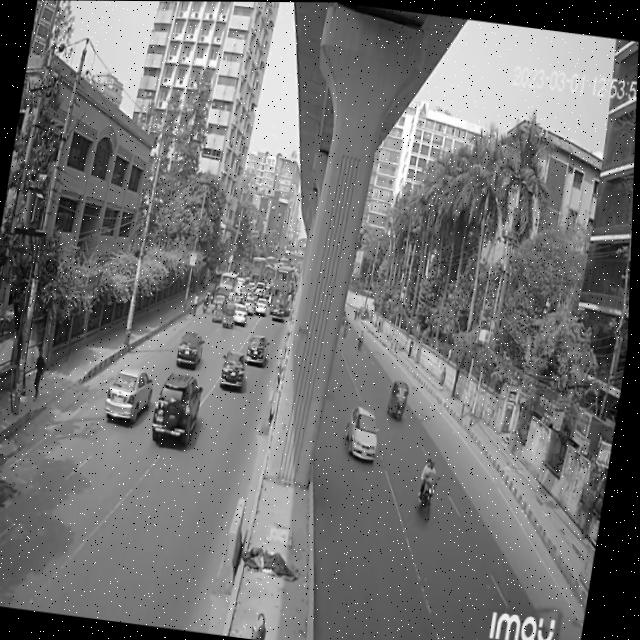cng: (386, 372, 413, 429), (221, 299, 240, 332), (211, 294, 229, 326)
